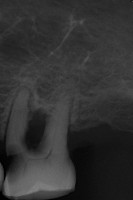Endo-Periodontal Lesion: (23, 108, 48, 151)
